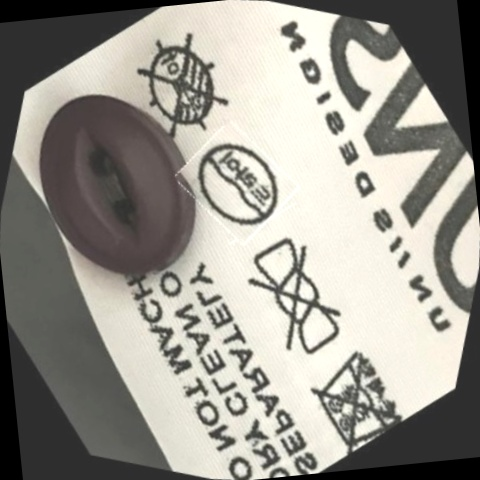DN_dry: (118, 21, 247, 152)
DN_wring: (222, 226, 368, 372)
dry_clean: (178, 124, 296, 244)
hand_wash: (293, 330, 418, 461)
